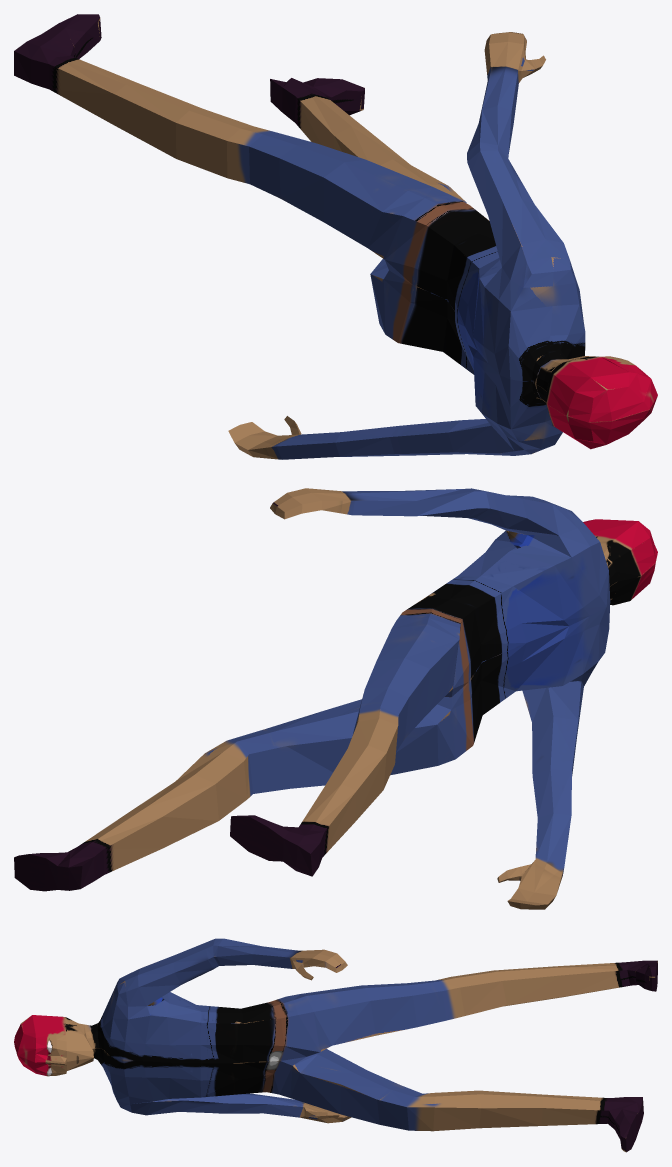
File: mirrorman_000023.obj
3 renders of one model, top to bottom at view 1: azimuth 30°, elevation 25°; view 2: azimuth 150°, elevation 25°; view 3: azimuth 270°, elevation 25°, orthographic. The views are drawn at different scales.
Parts seen in each view (by area): view 1: mirrorman_Cube.001_Material.001; view 2: mirrorman_Cube.001_Material.001; view 3: mirrorman_Cube.001_Material.001.
Part boxes in pixels (bbox=[...]): mirrorman_Cube.001_Material.001: bbox=[14, 14, 657, 459]; mirrorman_Cube.001_Material.001: bbox=[14, 488, 657, 909]; mirrorman_Cube.001_Material.001: bbox=[14, 938, 657, 1152].
Bounding box in the file's own units: 0.7768 × 0.7812 × 1.86.
1 material, 1 textured.
